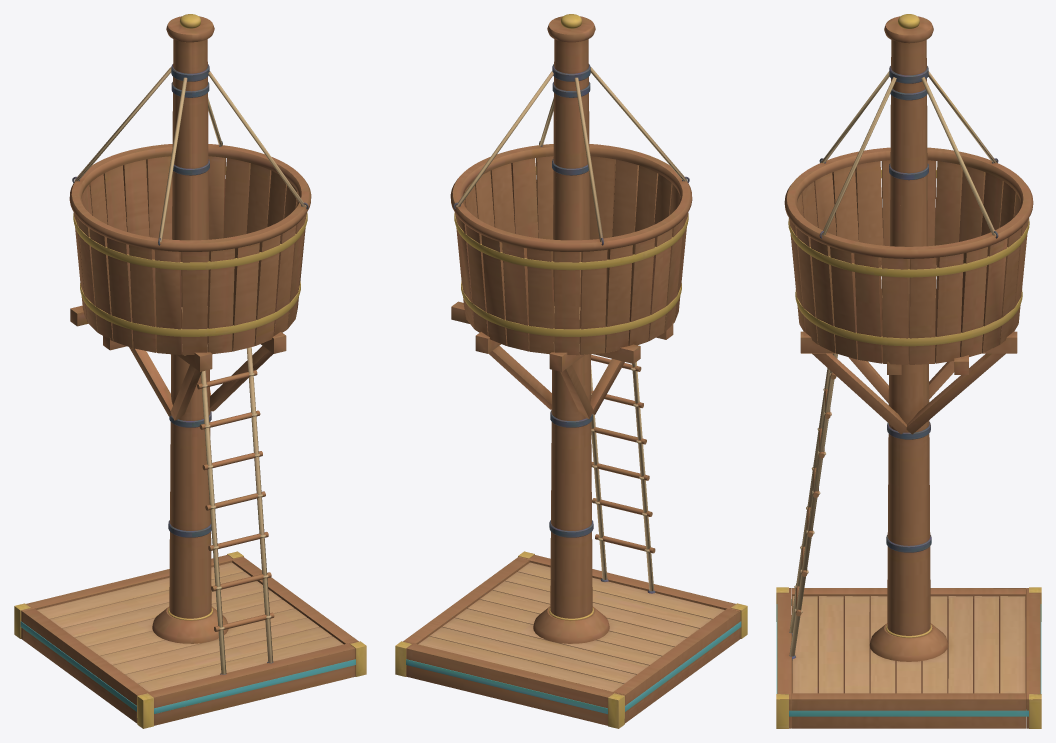
File: cofa.glb
The picture shows the model from 3 angles, left to right: view 1: azimuth 30°, elevation 25°; view 2: azimuth 150°, elevation 25°; view 3: azimuth 270°, elevation 25°; orthographic projection. The views are drawn at different scales.
Parts seen in each view (by area): view 1: crows-nest_body; view 2: crows-nest_body; view 3: crows-nest_body.
Part boxes in pixels (x1,y1,x2,y2): crows-nest_body: [14, 14, 366, 728]; crows-nest_body: [395, 14, 747, 728]; crows-nest_body: [776, 14, 1041, 728].
Size of the model in its own units: 1.81 by 4.95 by 1.81.
Materials: 1 (1 with a texture image).
